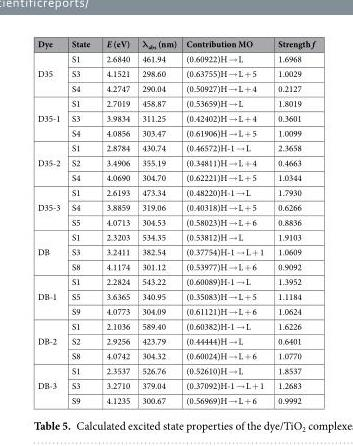table: (36, 37, 313, 406)
table column: (180, 37, 270, 406), (135, 37, 180, 406), (270, 37, 313, 406), (97, 37, 135, 406), (65, 37, 97, 406), (36, 37, 65, 406)
table column header: (36, 37, 313, 51)
table row: (36, 65, 313, 80), (36, 80, 313, 95), (36, 95, 313, 110), (36, 110, 313, 125), (36, 125, 313, 140), (36, 154, 313, 169), (36, 169, 313, 184), (36, 184, 313, 199), (36, 199, 313, 214), (36, 214, 313, 229), (36, 229, 313, 244), (36, 258, 313, 273), (36, 273, 313, 288), (36, 288, 313, 303), (36, 303, 313, 318), (36, 318, 313, 333), (36, 333, 313, 348), (36, 362, 313, 377), (36, 377, 313, 392), (36, 37, 313, 51), (36, 51, 313, 65), (36, 140, 313, 154), (36, 244, 313, 258), (36, 348, 313, 362), (36, 392, 313, 406)
table spanning cell: (36, 95, 65, 140), (36, 184, 65, 229), (36, 273, 65, 318), (36, 51, 65, 95), (36, 140, 65, 184), (36, 229, 65, 273), (36, 318, 65, 362), (36, 362, 65, 406)
